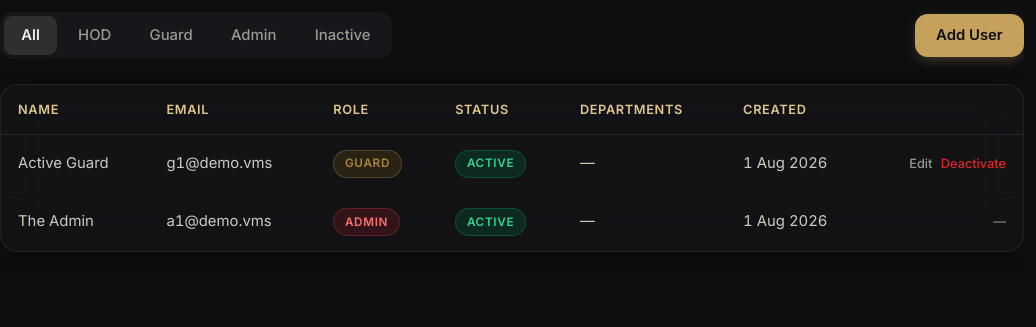
Test: UsersTab — Role and Status are separate columns › a suspended guard still reads Guard in the Role column
This screenshot has width=1036, height=327.
Expected: the text "Active Guard" is shown, [1,135,149,193]
Click the button "Inactive": (343, 35) [298,16,388,55]
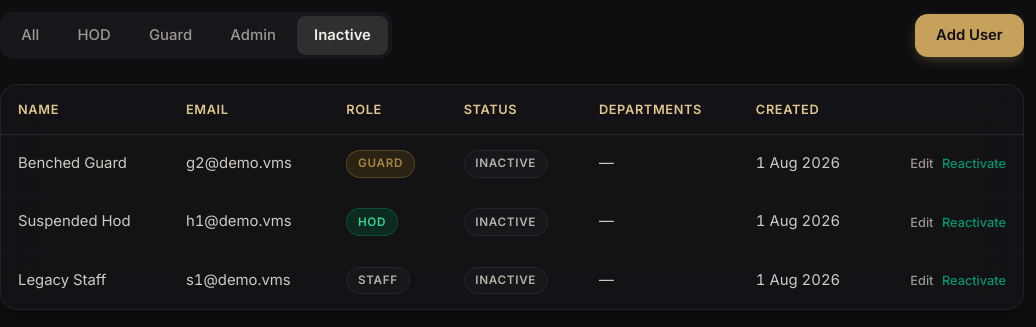
Expected: the text "Guard" is shown, [346,150,415,178]
Now the text "Inactive" in the row of "Benched Guard" is shown, box [475,156,536,170]
